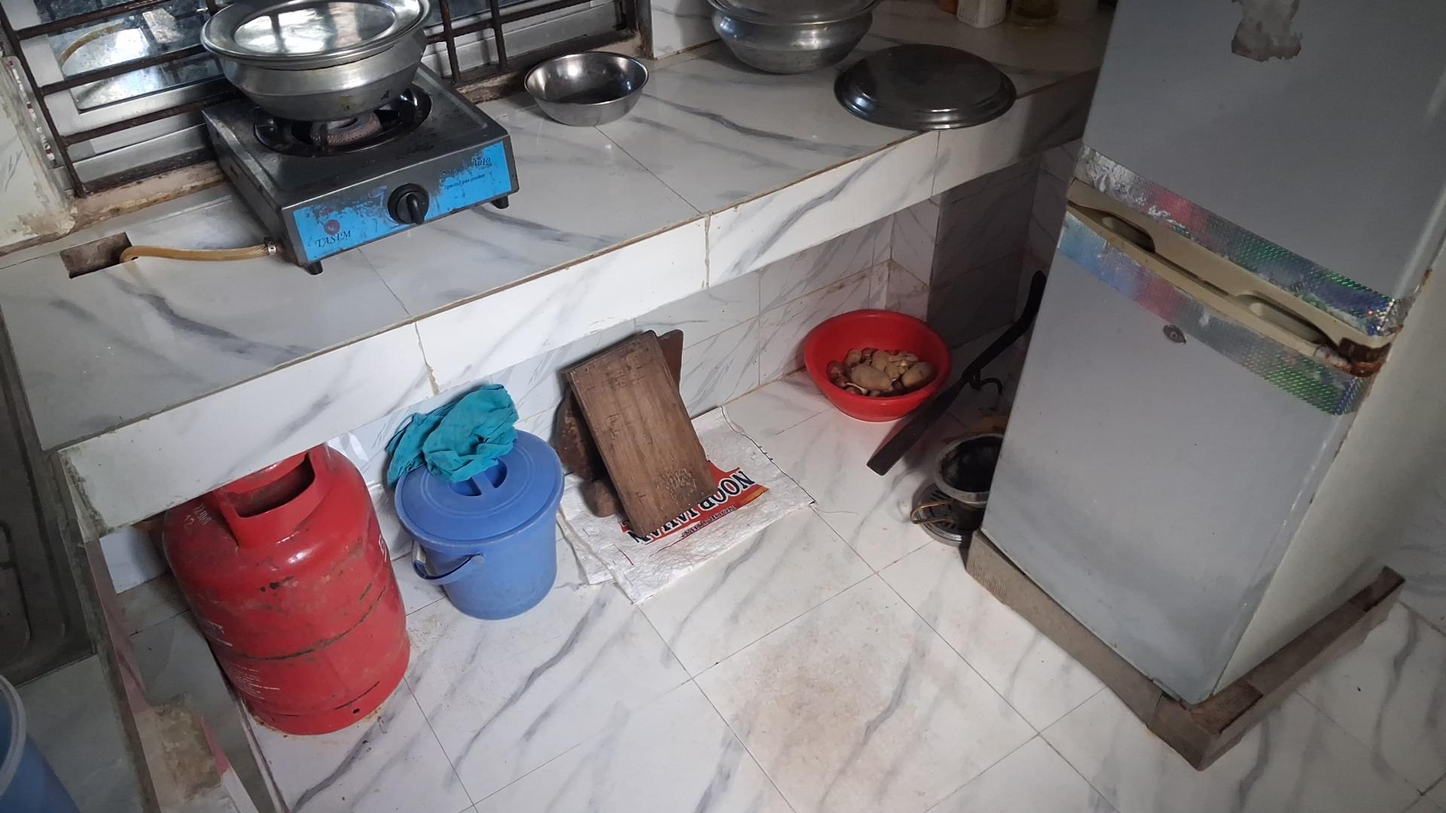Bowl: (802, 309, 951, 423), (522, 51, 648, 127)
Bucket: (398, 435, 560, 620)
Food: (826, 350, 939, 406)
Plate: (836, 49, 1011, 133)
Pot: (197, 0, 433, 120), (707, 0, 877, 75)
